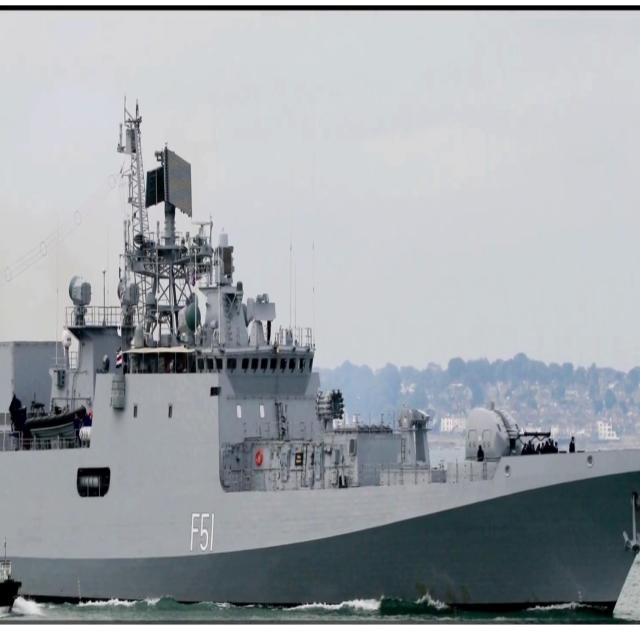OCR: (186, 507, 220, 559)
